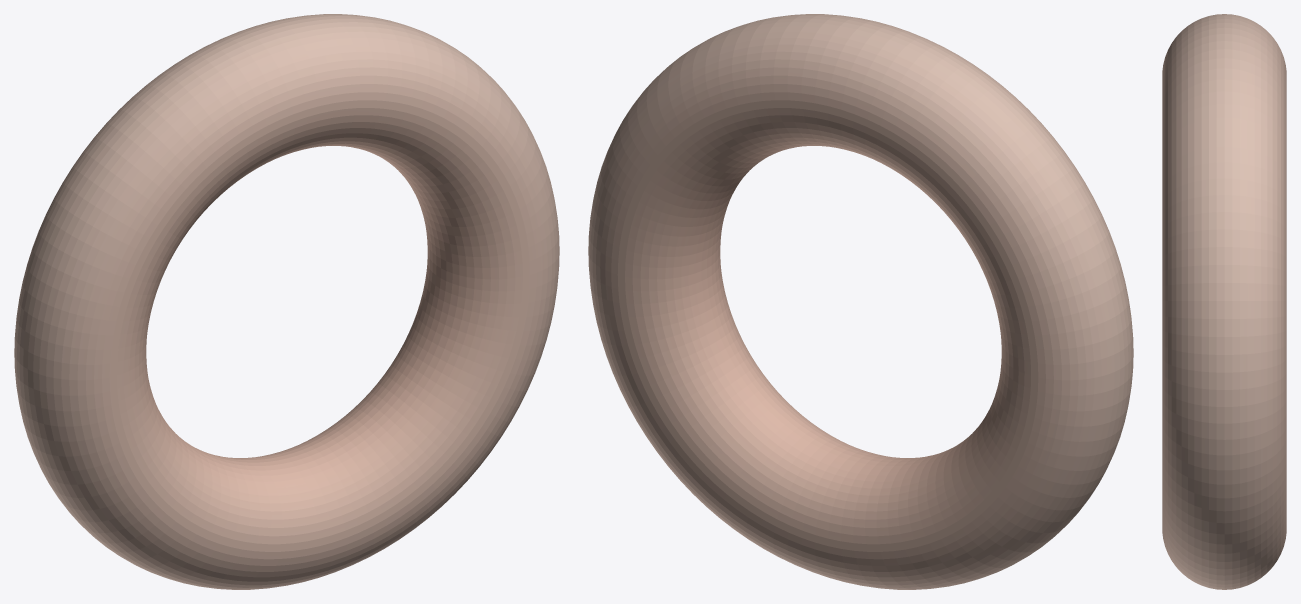
3 renders of one model, left to right at view 1: azimuth 30°, elevation 25°; view 2: azimuth 150°, elevation 25°; view 3: azimuth 270°, elevation 25°, orthographic. The views are drawn at different scales.
Visible parts, largest first — view 1: world; view 2: world; view 3: world.
Boxes of the visible parts, x1,y1,x2,y2 form: world: (14,14,559,589); world: (588,14,1133,589); world: (1162,14,1286,589).
Bounding box in the file's own units: 28.93 × 28.93 × 6.25.
